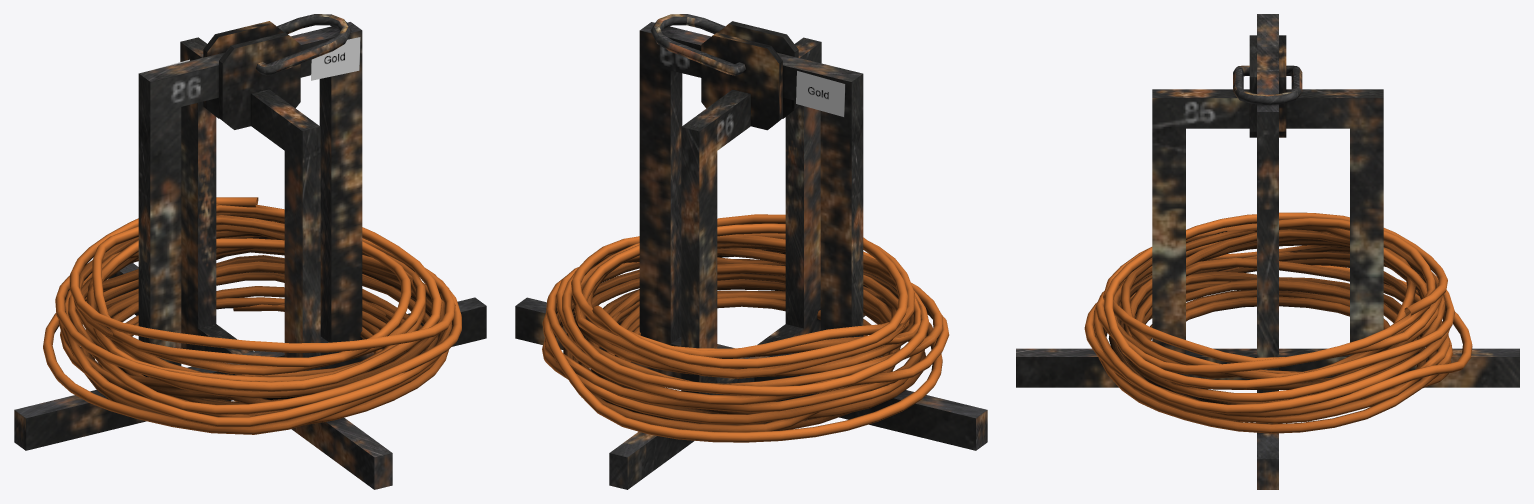
The model's file is copperCoil_false.fbx.
3 renders of one model, left to right at view 1: azimuth 30°, elevation 25°; view 2: azimuth 150°, elevation 25°; view 3: azimuth 270°, elevation 25°, orthographic. The views are drawn at different scales.
Parts seen in each view (by area): view 1: copperCoil_false; view 2: copperCoil_false; view 3: copperCoil_false.
Boxes of the visible parts, <box> form: copperCoil_false: <box>14,14,486,489</box>; copperCoil_false: <box>515,14,987,489</box>; copperCoil_false: <box>1016,14,1519,489</box>.
Size of the model in its own units: 0.6553 by 0.4827 by 0.6553.
Materials: 1 (1 with a texture image).
